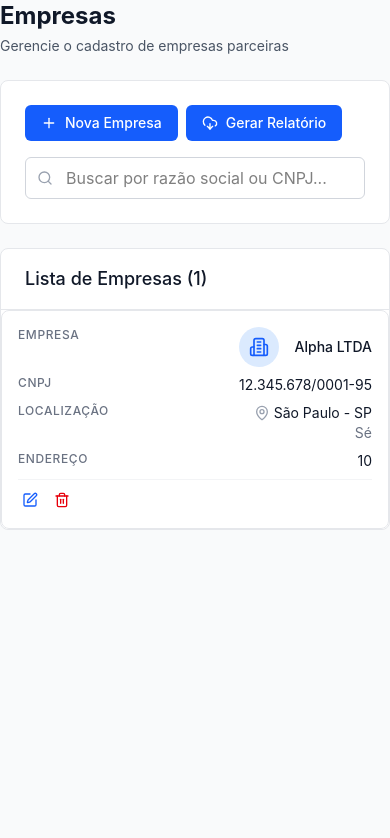
Test case: Companies page › validates fields and shows CNPJ errors
Click the button "Nova Empresa". click: point(101, 123)
box: [25,105,178,141]
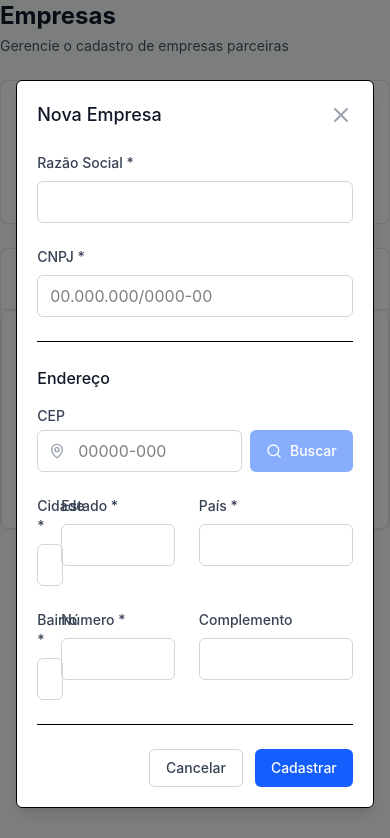
Submit the form
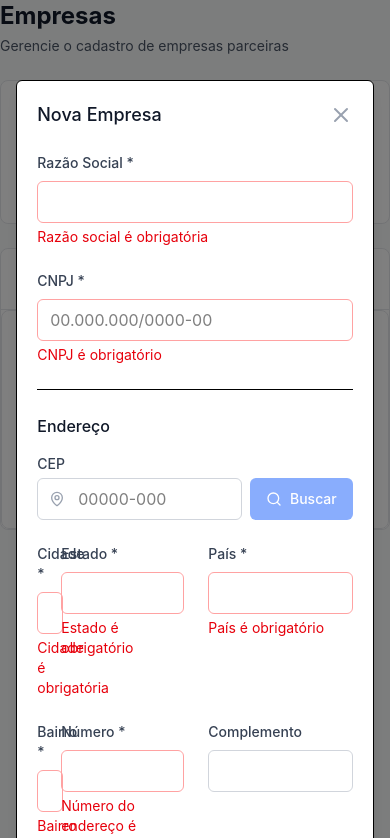
Expected: the text "CNPJ é obrigatório" is shown, [37,346,162,363]
